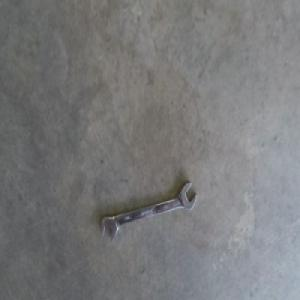Wrench: (100, 182, 196, 244)
